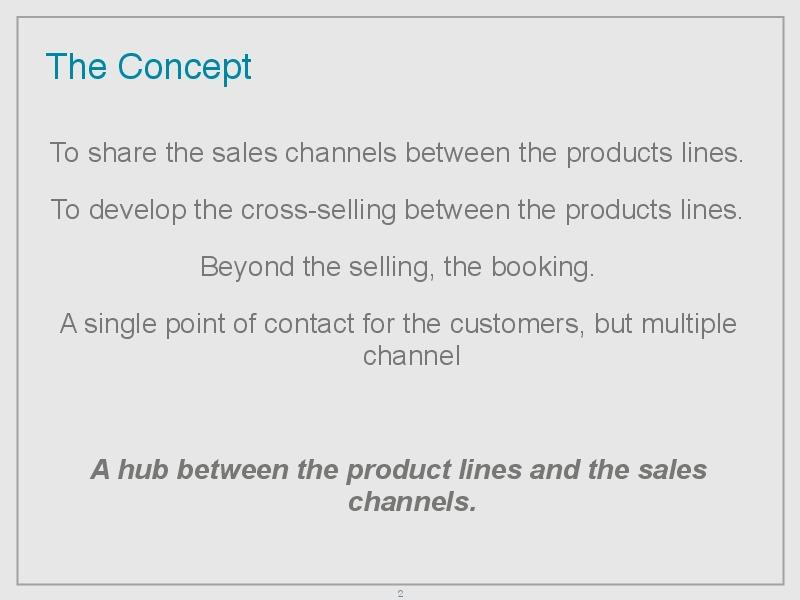paragraph: (35, 129, 766, 536)
title: (39, 33, 287, 102)
